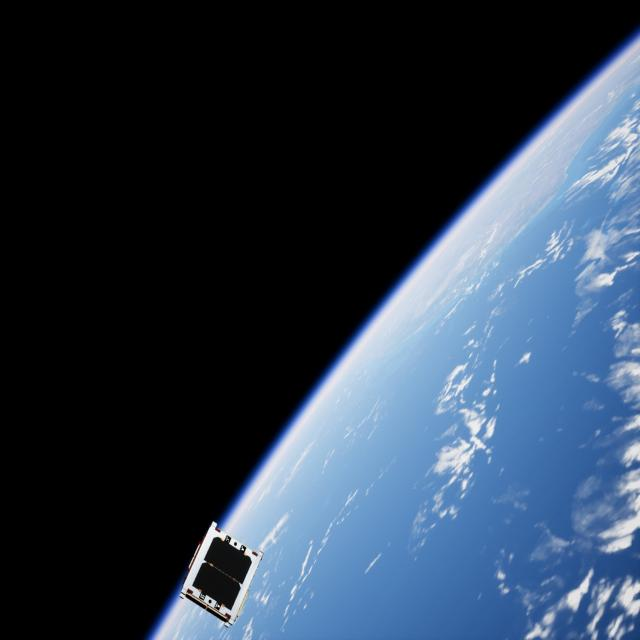satellite: (180, 516, 266, 631)
